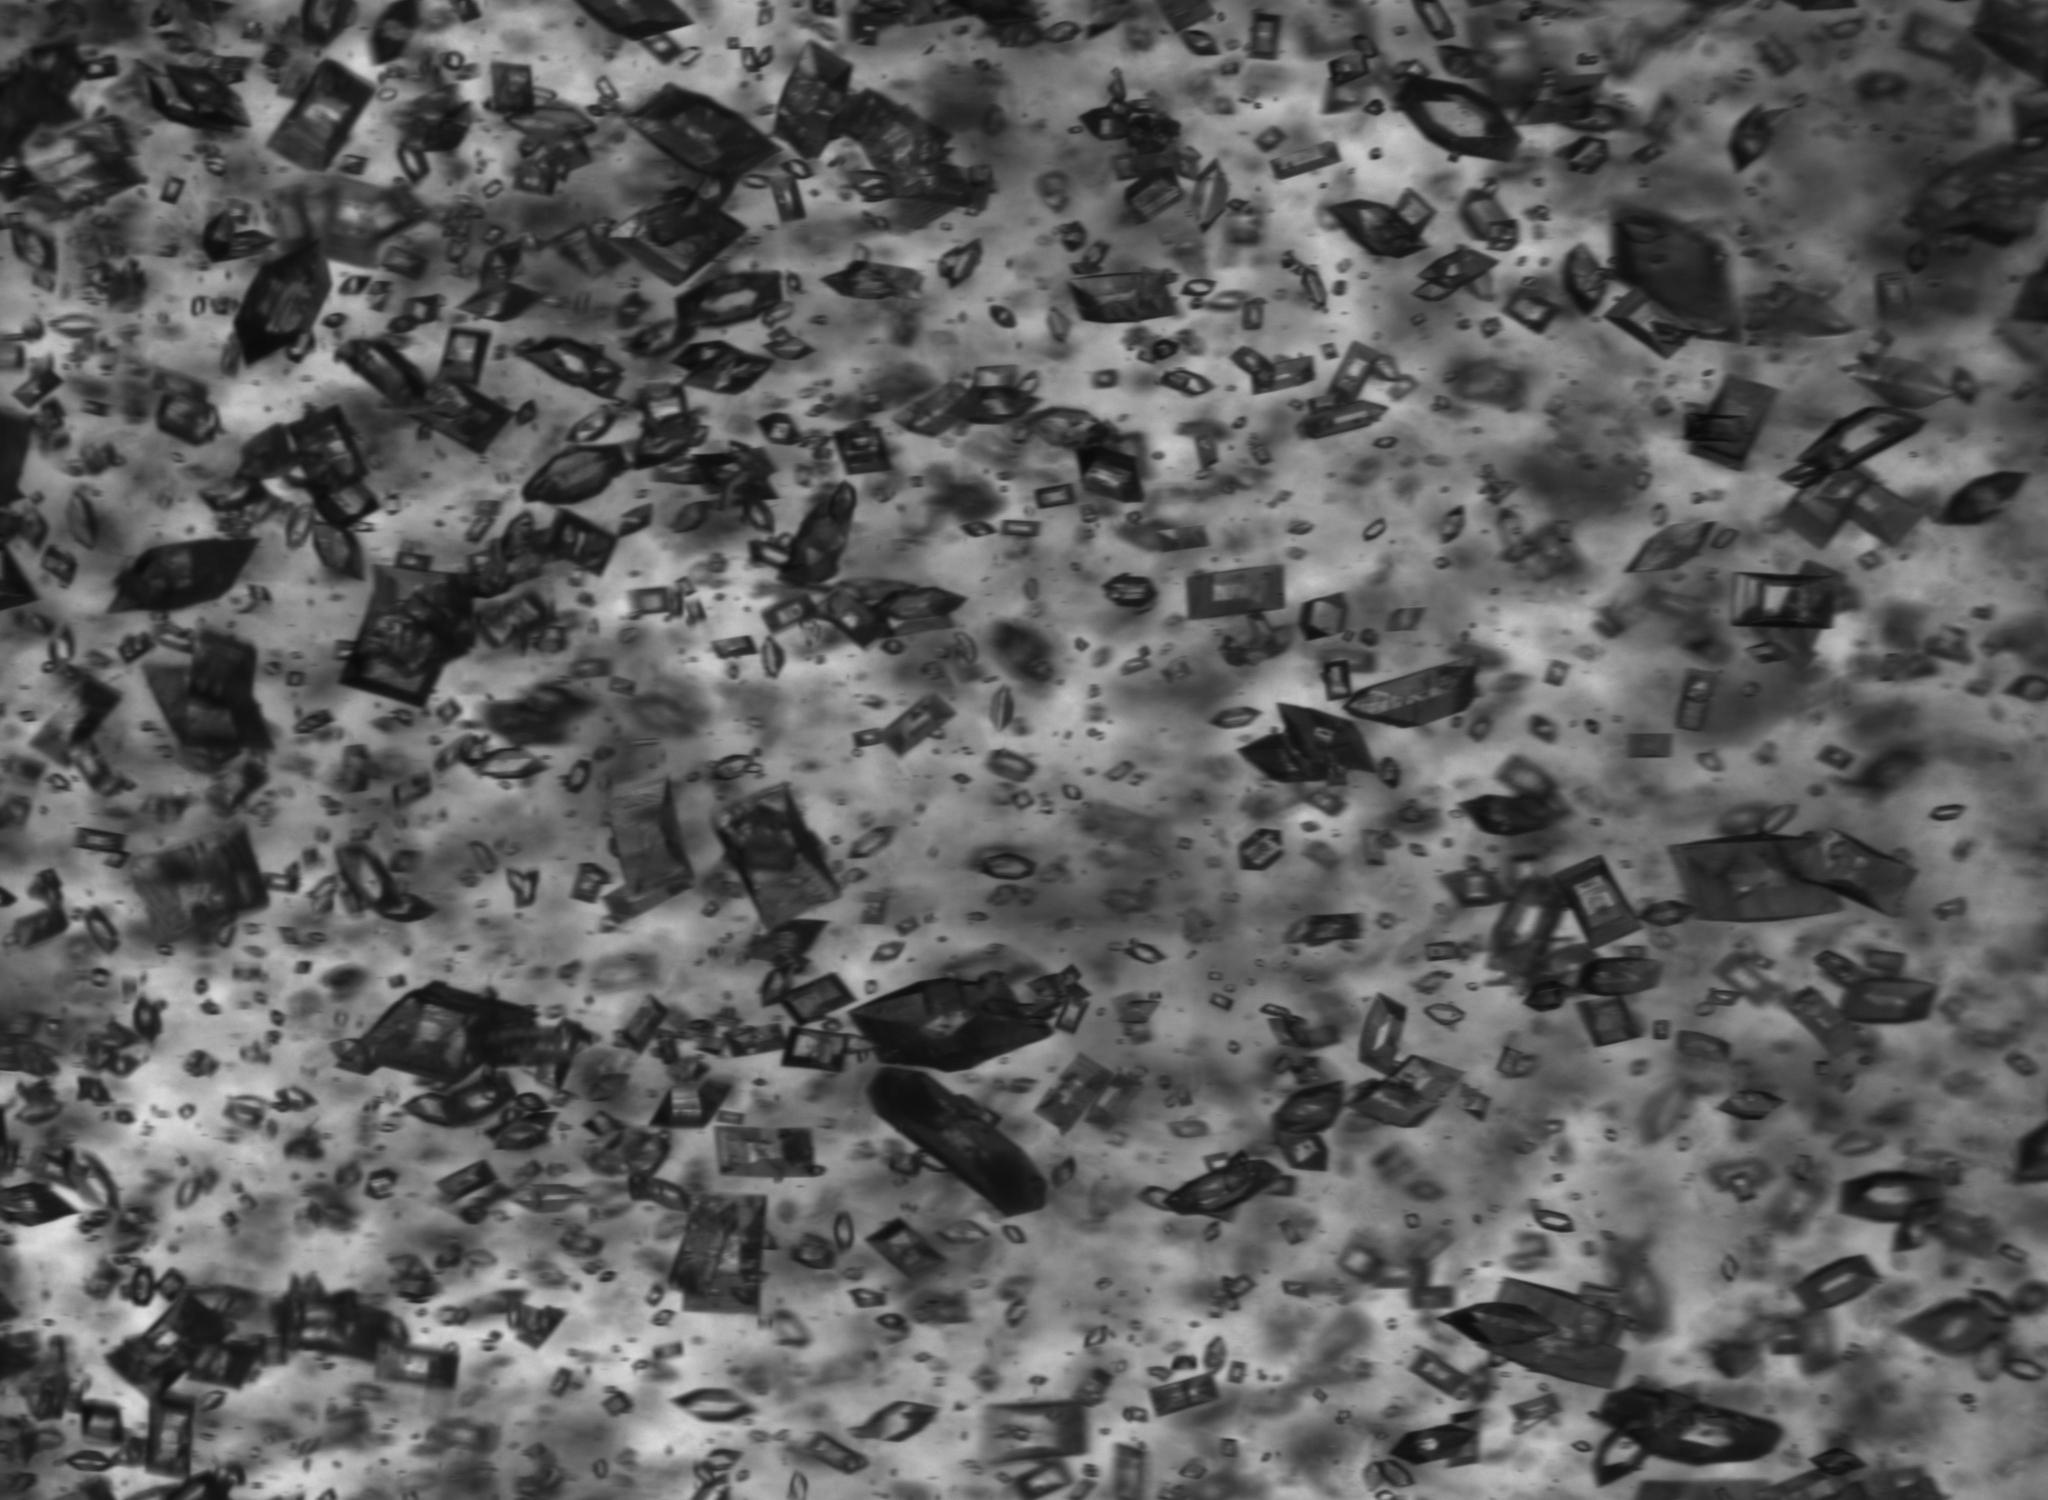crystal: (867, 1066, 1048, 1215), (849, 977, 1061, 1074), (1441, 1279, 1627, 1389), (340, 983, 533, 1086), (827, 89, 989, 210), (1784, 406, 1924, 546), (340, 568, 479, 706), (1598, 1385, 1782, 1484), (143, 631, 270, 771), (1616, 208, 1744, 342), (130, 818, 264, 943), (243, 407, 377, 531), (719, 789, 838, 924), (599, 181, 749, 288), (1666, 832, 1844, 921), (626, 81, 782, 178), (105, 1295, 240, 1406), (0, 116, 143, 221), (1781, 822, 1921, 918), (267, 57, 377, 172), (232, 239, 331, 364), (668, 1193, 766, 1314), (599, 773, 696, 891), (1240, 703, 1375, 786), (107, 538, 256, 612), (280, 1269, 401, 1360), (1396, 75, 1520, 161), (773, 43, 852, 161), (1552, 853, 1644, 951), (1682, 375, 1778, 469), (1342, 663, 1477, 729), (29, 676, 124, 768), (1301, 345, 1388, 439), (1348, 1056, 1460, 1128), (1899, 1292, 2019, 1357), (336, 843, 434, 923), (1490, 875, 1566, 975), (140, 62, 245, 134), (412, 379, 512, 453), (482, 682, 596, 748), (1603, 286, 1700, 361), (404, 1067, 522, 1128), (1339, 1245, 1455, 1306), (631, 382, 711, 469), (1328, 194, 1433, 259), (1162, 1158, 1280, 1215), (515, 337, 623, 399), (1034, 1050, 1113, 1134), (852, 694, 956, 757), (1781, 986, 1870, 1059), (1838, 356, 1957, 410), (463, 245, 545, 323), (776, 501, 854, 584), (676, 270, 782, 331), (1733, 573, 1843, 630), (714, 1123, 824, 1180), (523, 445, 628, 504), (339, 340, 429, 407), (695, 441, 779, 511), (1069, 269, 1177, 323), (1840, 1171, 1941, 1228), (1186, 565, 1285, 619), (1509, 73, 1608, 127), (544, 220, 630, 282), (1792, 1255, 1879, 1315), (674, 340, 773, 393), (520, 126, 593, 196), (544, 507, 617, 577), (995, 1405, 1084, 1462), (474, 584, 550, 651), (372, 1331, 460, 1389), (145, 1385, 197, 1481), (890, 379, 978, 436), (809, 587, 890, 647), (1623, 520, 1712, 574), (1938, 471, 2026, 525), (574, 0, 692, 40), (744, 919, 827, 975), (781, 1020, 868, 1072), (1073, 442, 1145, 504), (1843, 977, 1935, 1024), (868, 1223, 944, 1280), (1417, 248, 1501, 299), (202, 208, 277, 266), (652, 1077, 731, 1129), (1358, 994, 1407, 1077), (1021, 407, 1111, 452), (1460, 794, 1553, 837), (822, 259, 919, 301), (773, 973, 854, 1023), (1387, 1424, 1477, 1467), (1232, 347, 1317, 393), (0, 1180, 84, 1226), (943, 385, 1040, 425), (529, 1015, 582, 1088), (1275, 1080, 1344, 1136), (1123, 165, 1185, 226), (849, 1401, 938, 1443), (1083, 1074, 1142, 1133), (1022, 962, 1092, 1012), (1453, 366, 1528, 412), (1576, 996, 1643, 1047), (313, 523, 369, 584), (1576, 956, 1660, 996), (490, 1094, 553, 1147), (1228, 616, 1294, 665), (870, 587, 968, 620), (156, 393, 218, 445), (1269, 138, 1344, 181), (1148, 1373, 1220, 1416), (1442, 867, 1515, 908), (370, 2, 417, 67), (439, 329, 491, 387), (1563, 250, 1611, 312), (197, 472, 269, 514), (1730, 102, 1771, 173), (1458, 188, 1512, 242), (1189, 159, 1229, 232), (488, 62, 537, 121), (510, 1304, 569, 1354), (801, 1432, 868, 1475), (437, 1160, 499, 1204), (197, 1339, 251, 1390), (13, 903, 70, 951), (1296, 593, 1352, 641), (674, 1389, 754, 1422), (1503, 293, 1563, 336), (11, 364, 67, 410), (1121, 520, 1210, 549), (836, 426, 892, 471), (622, 997, 669, 1048), (762, 593, 820, 633), (720, 1023, 787, 1058), (11, 221, 54, 275), (1650, 1086, 1697, 1136), (386, 294, 442, 334), (1714, 1091, 1787, 1121), (938, 239, 979, 291), (437, 1420, 504, 1452), (475, 749, 545, 779), (1449, 1408, 1484, 1468), (628, 1176, 690, 1209), (1302, 911, 1364, 945), (62, 493, 97, 552), (1681, 670, 1714, 730), (1018, 1462, 1073, 1497), (380, 243, 431, 282), (1805, 1448, 1868, 1478), (1636, 899, 1700, 929), (984, 748, 1037, 784), (1415, 1352, 1468, 1389), (1242, 827, 1286, 870), (1563, 135, 1611, 175), (763, 324, 817, 359), (523, 1182, 588, 1210), (566, 407, 617, 444), (1856, 326, 1899, 369), (569, 861, 611, 905), (84, 905, 119, 958), (1073, 107, 1126, 142), (1676, 1031, 1730, 1064), (1511, 1390, 1565, 1424), (752, 412, 805, 445), (1875, 272, 1911, 320), (1070, 1368, 1113, 1408), (1051, 994, 1091, 1036), (1444, 49, 1501, 78), (1326, 49, 1369, 87), (40, 542, 78, 584), (846, 170, 895, 202), (113, 630, 157, 665), (933, 1217, 991, 1244), (83, 1403, 122, 1441), (75, 826, 127, 854), (674, 501, 720, 533), (1226, 202, 1263, 242), (1320, 659, 1355, 700), (286, 503, 316, 550), (1248, 16, 1280, 60), (1069, 240, 1108, 275), (983, 854, 1037, 880), (1108, 577, 1161, 603), (628, 1136, 666, 1171), (617, 503, 652, 541), (48, 315, 103, 339), (134, 996, 162, 1042), (345, 743, 370, 794), (363, 1168, 399, 1203), (789, 1238, 833, 1266), (580, 1109, 625, 1137), (747, 539, 792, 568), (774, 180, 806, 220), (1743, 641, 1792, 666), (1813, 743, 1856, 771), (396, 773, 431, 808), (14, 1101, 62, 1126), (1159, 369, 1207, 394), (1499, 1048, 1541, 1077), (628, 585, 669, 614), (1210, 706, 1259, 730), (1119, 1448, 1143, 1497), (830, 480, 855, 527), (1422, 5, 1456, 38), (399, 146, 431, 183), (851, 830, 894, 857), (1371, 1460, 1414, 1487), (1773, 1322, 1811, 1352), (278, 1083, 323, 1109), (991, 687, 1018, 729), (507, 872, 539, 907), (743, 498, 774, 533), (588, 1074, 626, 1102), (700, 1448, 743, 1473), (49, 627, 73, 671), (716, 636, 757, 662), (646, 37, 684, 64), (1439, 504, 1463, 547), (80, 54, 119, 80), (463, 514, 496, 544), (1463, 1086, 1491, 1121), (127, 1266, 153, 1304), (1183, 30, 1221, 56), (156, 1268, 186, 1300), (1423, 940, 1466, 962), (1166, 1118, 1212, 1139), (76, 1078, 116, 1102), (393, 549, 432, 573), (860, 891, 887, 926), (1361, 830, 1387, 867), (68, 1449, 113, 1470), (957, 519, 999, 541), (1253, 126, 1286, 153), (566, 757, 592, 792), (1307, 267, 1329, 307), (1040, 21, 1080, 43), (1631, 736, 1670, 759), (1194, 433, 1216, 471), (1865, 948, 1905, 969), (157, 175, 186, 204), (763, 636, 782, 679), (1037, 482, 1073, 504), (716, 756, 752, 778), (870, 940, 906, 962), (1129, 942, 1166, 964), (1223, 1274, 1256, 1298), (1631, 142, 1665, 165), (293, 713, 331, 733), (1205, 1335, 1224, 1376), (1051, 1156, 1073, 1191), (1275, 1218, 1304, 1245), (601, 1392, 633, 1416), (549, 1366, 572, 1398), (1426, 1004, 1463, 1024), (1538, 1212, 1576, 1231), (262, 870, 297, 891), (889, 1152, 919, 1176), (1062, 221, 1084, 253), (1705, 988, 1741, 1007), (833, 1215, 854, 1249), (1996, 1242, 2029, 1263), (1105, 759, 1134, 783), (992, 304, 1018, 329), (437, 697, 461, 724), (1929, 803, 1965, 821), (337, 154, 366, 177), (337, 275, 370, 294), (1124, 1001, 1154, 1021), (1391, 609, 1422, 630), (1242, 301, 1263, 331), (1180, 278, 1215, 296), (80, 399, 111, 418), (595, 75, 619, 100), (652, 1343, 684, 1362), (1546, 660, 1568, 687), (480, 224, 507, 247), (607, 676, 636, 697), (1003, 520, 1043, 534), (1363, 517, 1387, 541), (1248, 444, 1274, 466), (1711, 528, 1738, 549), (852, 1290, 884, 1306), (1258, 1002, 1290, 1018), (1051, 312, 1069, 340), (1282, 1280, 1310, 1298), (1720, 1253, 1738, 1282), (673, 576, 696, 597), (1002, 1225, 1027, 1244), (1208, 991, 1234, 1010), (894, 916, 919, 935), (790, 1470, 806, 1500), (482, 178, 504, 199), (684, 600, 706, 620), (518, 399, 536, 425), (1180, 1463, 1207, 1479), (91, 967, 111, 988), (1084, 1327, 1105, 1347), (741, 48, 758, 72), (248, 582, 272, 600), (1228, 1360, 1245, 1384), (681, 46, 701, 65), (1011, 791, 1032, 810), (1652, 1020, 1671, 1040), (738, 175, 768, 188), (758, 5, 773, 29), (1375, 437, 1399, 452), (445, 51, 463, 70), (1221, 1438, 1237, 1457), (191, 296, 205, 317), (1571, 1440, 1592, 1454), (1062, 784, 1080, 800), (1404, 1214, 1422, 1230), (1178, 835, 1194, 849), (294, 962, 312, 975), (727, 38, 741, 49)
